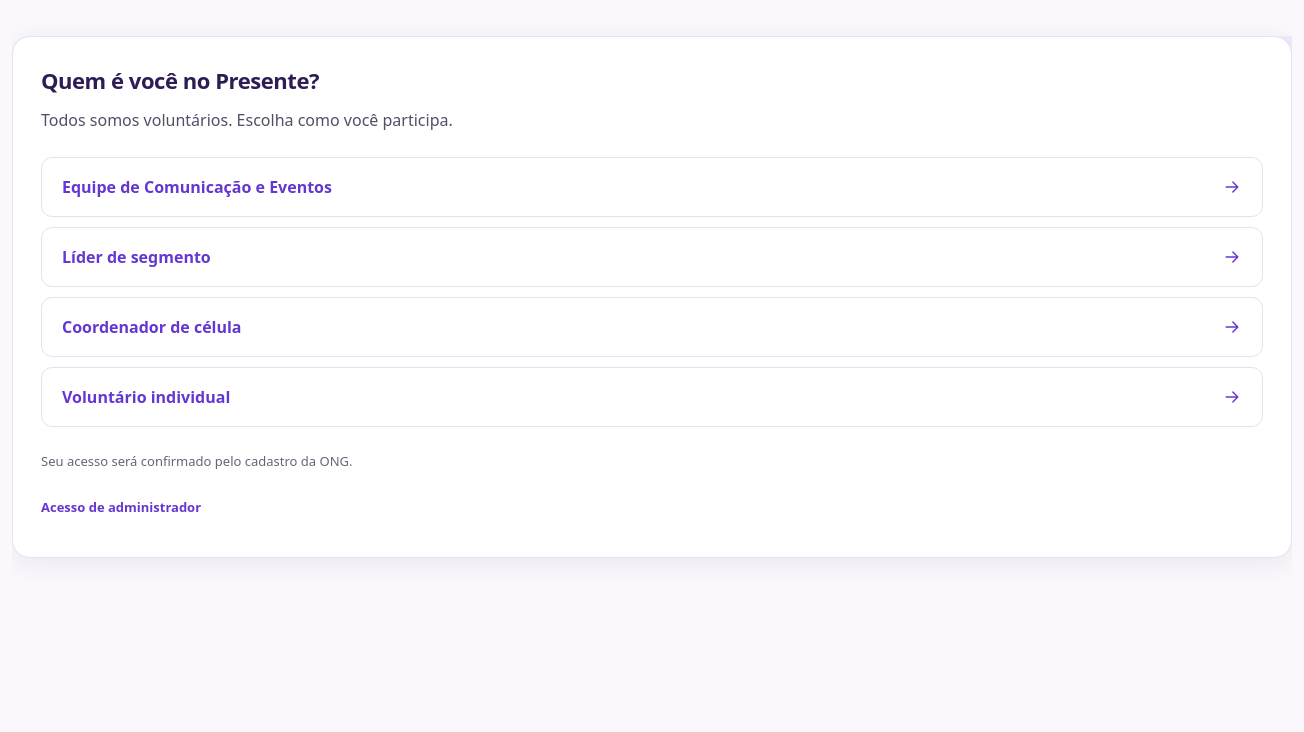
it: offers four entry choices without granting a role
The width and height of the screenshot is (1304, 732).
Expected: the button "Equipe de Comunicação e Eventos" is shown, [41, 157, 1263, 217]
Click the button "Voluntário individual" at (146, 397), box [41, 367, 1263, 427]
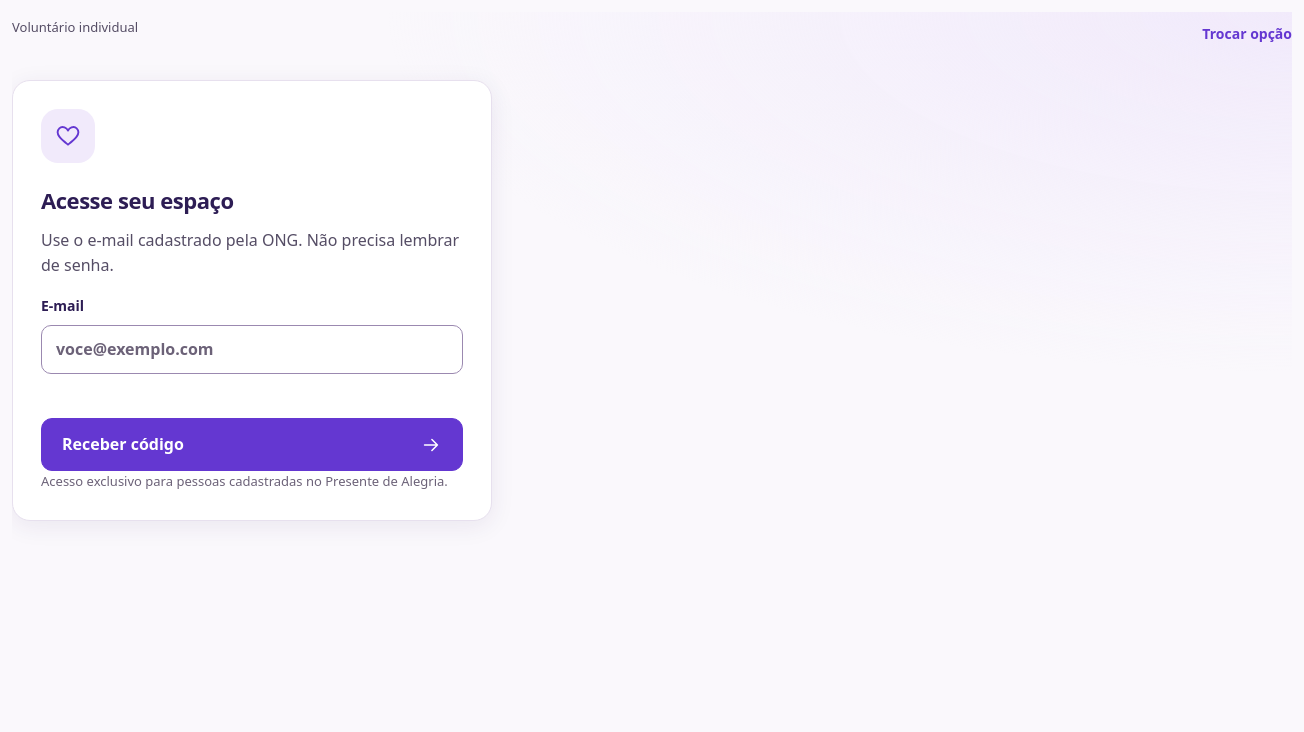
Now the field labelled "E-mail" is shown, box [41, 325, 463, 374]
